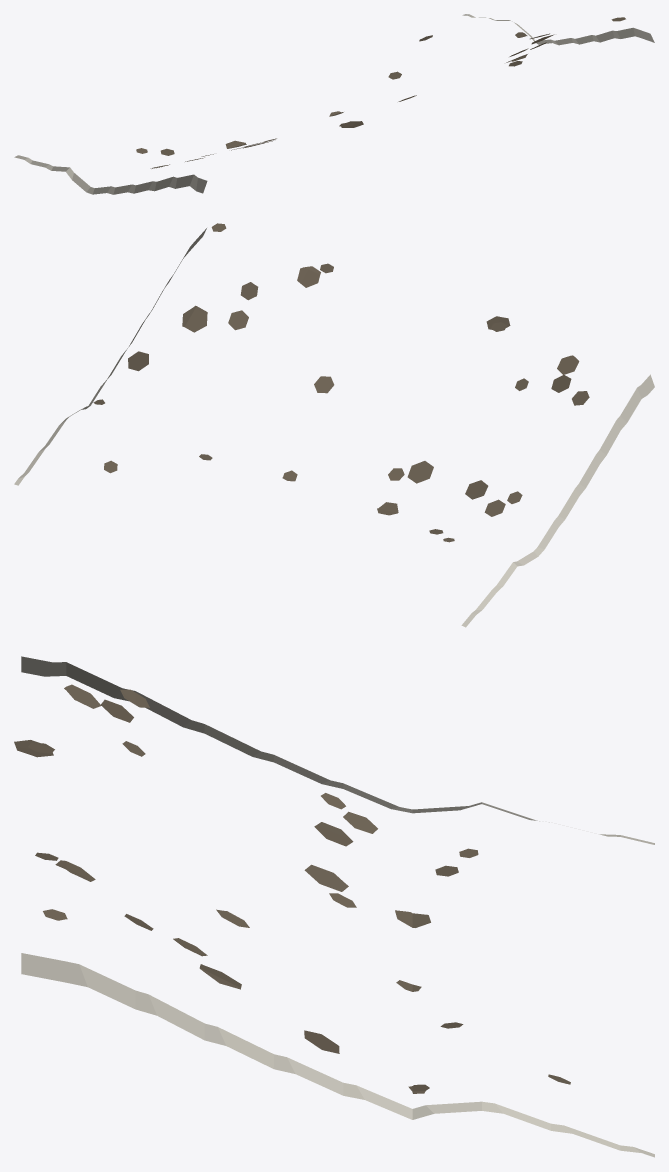
The model's file is dam_apron_kicker_detail1.glb.
3 renders of one model, top to bottom at view 1: azimuth 30°, elevation 25°; view 2: azimuth 150°, elevation 25°; view 3: azimuth 270°, elevation 25°, orthographic. The views are drawn at different scales.
Parts seen in each view (by area): view 1: dam_apron_kicker_detail1; view 2: dam_apron_kicker_detail1; view 3: dam_apron_kicker_detail1.
Part boxes in pixels (x1,y1,x2,y2): dam_apron_kicker_detail1: [14, 14, 654, 194]; dam_apron_kicker_detail1: [14, 223, 654, 627]; dam_apron_kicker_detail1: [14, 656, 654, 1157].
Size of the model in its own units: 25.25 by 8.88 by 18.51.
